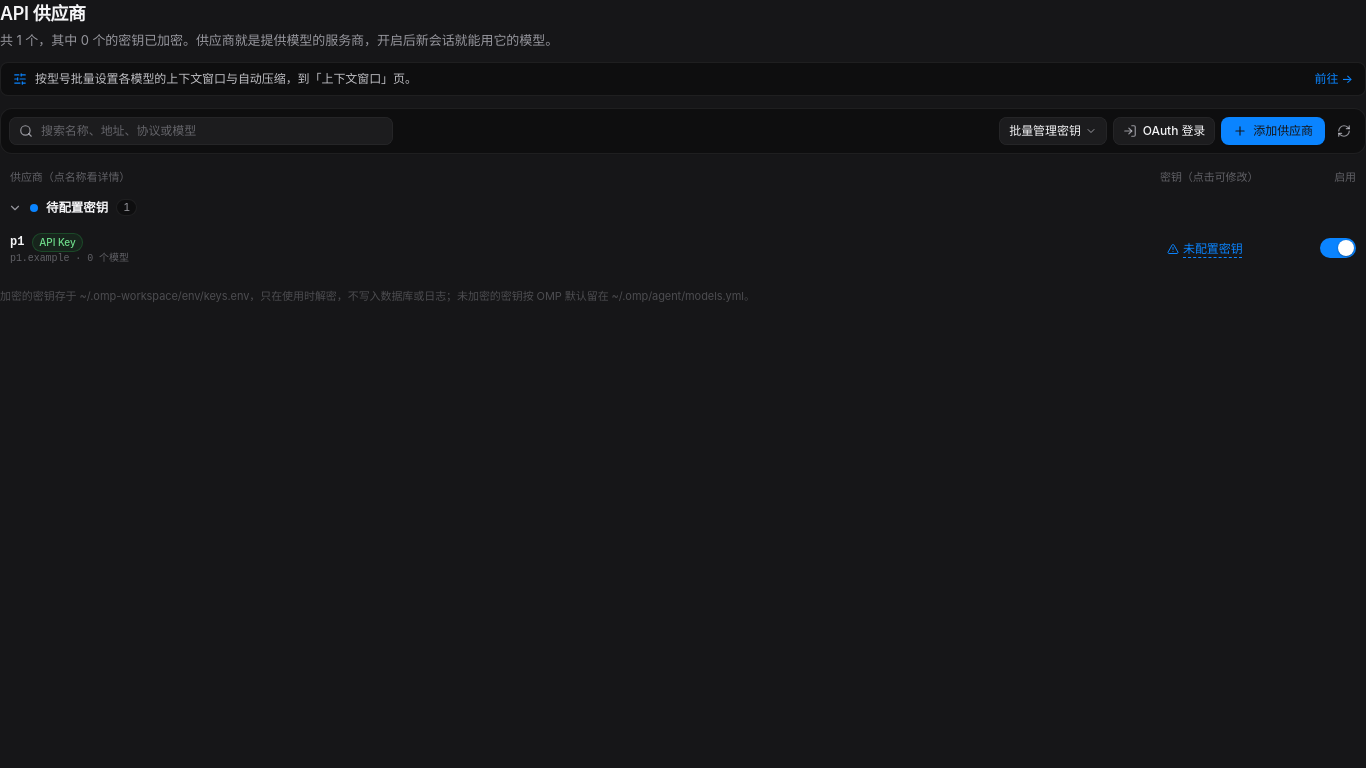
Scenario: key column › missing opens the 设置密钥 dialog
Expected: the text "供应商（点名称看详情）" is shown, 10,170 -> 130,184
Step 1. Click the button "未配置密钥" → (1205, 249), box 1160,238 -> 1250,260
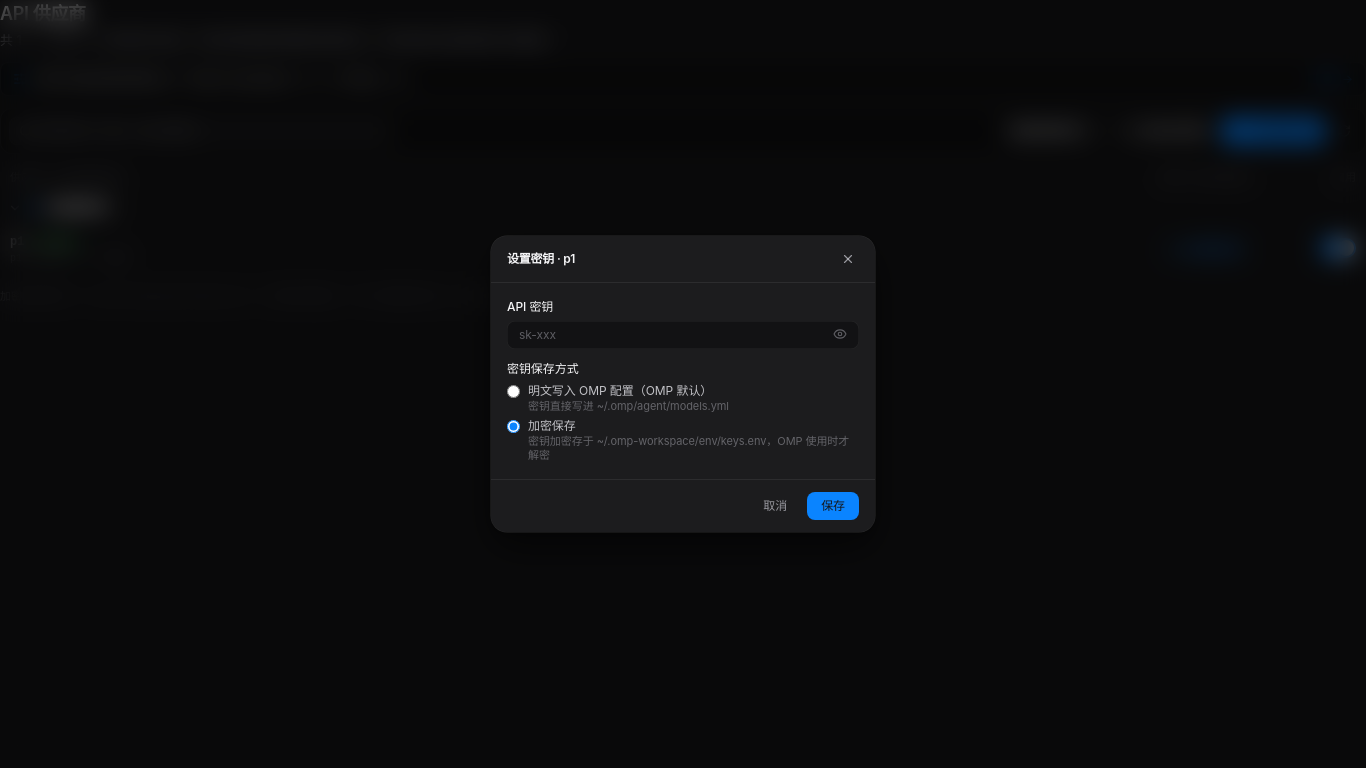
Now the dialog "设置密钥" is shown, box 491,236 -> 875,532
